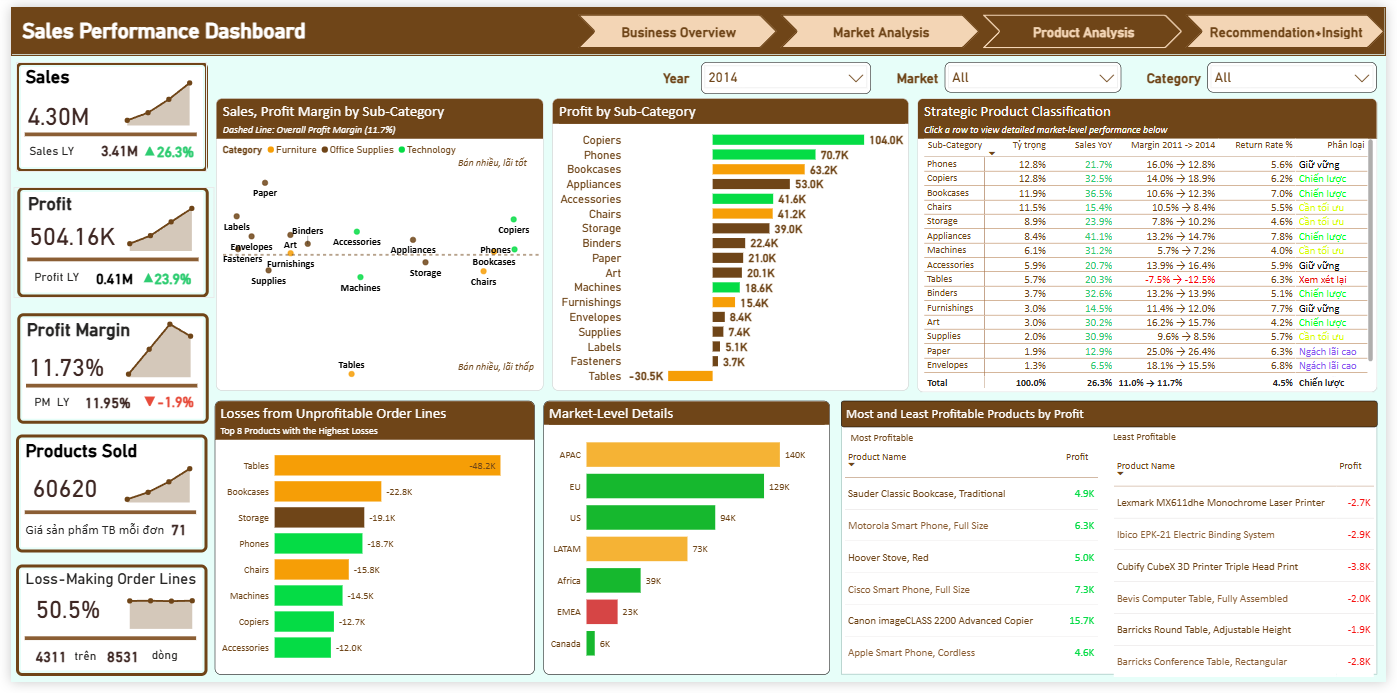

The dashboard page shown, as its layout file describes it:
{"tool":"powerbi","page":{"name":"Product Analysis","canvas":[2200,1080],"ordinal":2},"visuals":[{"type":"shape","box":[0,0,2200,78],"z":0,"group":"g8"},{"type":"shape","box":[7.3,88,307.5,176],"z":0,"group":"g7"},{"type":"group","id":"g1","title":"Group 4","box":[1812,88,374,56],"z":0,"group":"g11"},{"type":"textbox","box":[1412,95.2,96.4,48.8],"z":0,"group":"g3"},{"type":"textbox","box":[1812,95.2,117.1,48.8],"z":0,"group":"g1"},{"type":"textbox","box":[1038,95.6,67.9,37.8],"z":0,"group":"g9"},{"type":"shape","box":[10.9,288.1,306.2,177.1],"z":0,"group":"g6"},{"type":"shape","box":[9.3,489.4,306.2,177.1],"z":0,"group":"g5"},{"type":"clusteredBarChart","title":"Losses from Unprofitable Order Lines","fields":{"Category":["Dim_Product.Sub-Category"],"Y":["_Measure.Total Loss"]},"box":[326,630,512,438],"z":0},{"type":"shape","box":[8,684,306.2,188.6],"z":0,"group":"g4"},{"type":"tableEx","fields":{"Values":["Dim_Product.Product Name","_Measure.Total Profit"]},"box":[1328,690,440,382],"z":0,"group":"g10"},{"type":"shape","box":[8,892,306.2,178],"z":0,"group":"g2"},{"type":"pageNavigator","box":[906,12,1294,54],"z":1000,"group":"g8"},{"type":"slicer","fields":{"Values":["Dim_Date.Year"]},"box":[1103.9,88,271.7,51],"z":1000,"group":"g9"},{"type":"slicer","fields":{"Values":["Dim_Geography.Market"]},"box":[1493.4,88,282.6,48.8],"z":1000,"group":"g3"},{"type":"slicer","fields":{"Values":["Dim_Product.Category"]},"box":[1914.7,88,271.3,48.8],"z":1000,"group":"g1"},{"type":"textbox","box":[24.7,213.1,156.7,33.8],"z":1000,"group":"g7"},{"type":"cardVisual","fields":{"Data":["_Measure.Profit LY"]},"box":[112,408.3,118,50],"z":1000,"group":"g6"},{"type":"textbox","box":[32.6,615.1,90,40],"z":1000,"group":"g5"},{"type":"textbox","box":[18,818,246,48],"z":1000,"group":"g4"},{"type":"group","id":"g2","title":"Card 5","box":[8,892,310,178],"z":1000},{"type":"cardVisual","fields":{"Data":["_Measure.Số đơn lỗ"]},"box":[12,1012,104,52],"z":1000,"group":"g2"},{"type":"textbox","box":[18,18,716,40],"z":2000,"group":"g8"},{"type":"group","id":"g3","title":"Group 3","box":[1412,88,364,56],"z":2000,"group":"g11"},{"type":"cardVisual","fields":{"Data":["_Measure.Growth Arrow"]},"box":[179.3,205.1,80.4,49.7],"z":2000,"group":"g7"},{"type":"cardVisual","fields":{"Data":["_Measure.Profit YoY Growth %"]},"box":[200,403.3,126,60],"z":2000,"group":"g6"},{"type":"cardVisual","fields":{"Data":["_Measure.PM Growth Arrow"]},"box":[180.6,605.1,80,50],"z":2000,"group":"g5"},{"type":"textbox","box":[1328,630,858,42],"z":2000,"group":"g10"},{"type":"group","id":"g4","title":"Card 4","box":[8,684,328,382],"z":2000},{"type":"cardVisual","fields":{"Data":["_Measure.Total Order"]},"box":[120,1010,118,56],"z":2000,"group":"g4"},{"type":"textbox","box":[96,1022,64,40],"z":2000,"group":"g2"},{"type":"cardVisual","fields":{"Data":["_Measure.Revenue LY"]},"box":[120,204,108,48],"z":3000,"group":"g7"},{"type":"cardVisual","fields":{"Data":["_Measure.Profit Growth Arrow"]},"box":[178.4,408.3,81.4,50],"z":3000,"group":"g6"},{"type":"group","id":"g5","title":"Card 3","box":[4,489.4,324.6,177.1],"z":3000},{"type":"cardVisual","fields":{"Data":["_Measure.PM LY"]},"box":[94.6,603.1,134,54],"z":3000,"group":"g5"},{"type":"textbox","box":[1338.6,674,323.3,38],"z":3000,"group":"g10"},{"type":"shape","box":[22.2,799.6,274.2,16.7],"z":3000,"group":"g4"},{"type":"shape","box":[22.2,1001.1,274.2,15.8],"z":3000,"group":"g2"},{"type":"cardVisual","fields":{"Data":["_Measure.Revenue YoY Growth %"]},"box":[203.5,201.2,124.5,57.6],"z":4000,"group":"g7"},{"type":"group","id":"g6","title":"Card 2","box":[4,288.1,322,177.1],"z":4000},{"type":"textbox","box":[32,415.3,104,36],"z":4000,"group":"g6"},{"type":"cardVisual","fields":{"Data":["_Measure.PM YoY Growth %"]},"box":[204.6,601.1,124,58],"z":4000,"group":"g5"},{"type":"textbox","box":[1757,672,323.3,38],"z":4000,"group":"g10"},{"type":"lineChart","fields":{"Category":["Date.Year"],"Y":["_Measure.Total Quantity"]},"box":[176,714.4,120,78.8],"z":4000,"group":"g4"},{"type":"cardVisual","fields":{"Data":["_Measure.Dòng bán hàng lỗ %"]},"box":[14,928,174,68],"z":4000,"group":"g2"},{"type":"group","id":"g7","title":"Card 1","box":[2,88,326,176],"z":5000},{"type":"shape","box":[21.6,195.9,275.4,15.6],"z":5000,"group":"g7"},{"type":"shape","box":[25.1,396.7,274.2,15.7],"z":5000,"group":"g6"},{"type":"shape","box":[23.5,598,274.2,15.7],"z":5000,"group":"g5"},{"type":"textbox","box":[18,688.9,318,53.2],"z":5000,"group":"g4"},{"type":"textbox","box":[18,896,284,50],"z":5000,"group":"g2"},{"type":"textbox","box":[220,1020,98,40],"z":5500,"group":"g2"},{"type":"lineChart","fields":{"Category":["Date.Year"],"Y":["_Measure.Total Revenue"]},"box":[176.3,91.6,119.9,97.9],"z":6000,"group":"g7"},{"type":"lineChart","fields":{"Category":["Date.Year"],"Y":["_Measure.Total Profit"]},"box":[179.1,291.8,119.3,98.6],"z":6000,"group":"g6"},{"type":"lineChart","fields":{"Category":["Date.Year"],"Y":["_Measure.Profit Margin %"]},"box":[177.6,493.1,119.3,98.6],"z":6000,"group":"g5"},{"type":"cardVisual","fields":{"Data":["_Measure.đơn giá tb"]},"box":[232,808,78,54],"z":6000,"group":"g4"},{"type":"lineChart","fields":{"Category":["Date.Year"],"Y":["_Measure.Dòng bán hàng lỗ %"]},"box":[180,922,120,74],"z":6000},{"type":"group","id":"g8","title":"Heding","box":[0,0,2200,78],"z":7000},{"type":"textbox","box":[18,90,146,52],"z":7000,"group":"g7"},{"type":"textbox","box":[22,292.8,106,50],"z":7000,"group":"g6"},{"type":"textbox","box":[19.9,493.1,237.2,50],"z":7000,"group":"g5"},{"type":"cardVisual","fields":{"Data":["_Measure.Total Quantity"]},"box":[9.1,734.2,200,70.3],"z":7000,"group":"g4"},{"type":"cardVisual","fields":{"Data":["_Measure.Total Sales"]},"box":[2,140,172,66],"z":8000,"group":"g7"},{"type":"cardVisual","fields":{"Data":["_Measure.Total Profit"]},"box":[4,327.8,210,74],"z":8000,"group":"g6"},{"type":"cardVisual","fields":{"Data":["_Measure.Profit Margin %"]},"box":[4,541.2,194.3,67.1],"z":8000,"group":"g5"},{"type":"shape","box":[1328,630,858,438],"z":8000},{"type":"clusteredBarChart","title":"Profit by Sub-Category","fields":{"Y":["_Measure.Total Profit"],"Category":["Dim_Product.Sub-Category"]},"box":[866,146,570,468],"z":9000},{"type":"scatterChart","title":"Sales, Profit Margin by Sub-Category","fields":{"X":["_Measure.Total Sales"],"Category":["Dim_Product.Sub-Category"],"Series":["Dim_Product.Category"],"Y":["_Measure.Profit Margin %"]},"box":[328,146,524,468],"z":10000},{"type":"pivotTable","title":"Strategic Product Classification","fields":{"Rows":["Dim_Product.Sub-Category"],"Values":["_Measure.Sales Share %","_Measure.Revenue YoY Growth %","_Measure.Margin Comparison","_Measure.Return Rate %","_Measure.Product Segment"]},"box":[1450,146,736,470],"z":11000},{"type":"group","id":"g9","title":"Group 7","box":[1038,88,338,50],"z":12000,"group":"g11"},{"type":"group","id":"g10","title":"Group 6","box":[1328,630,858,442],"z":12000},{"type":"textbox","box":[710,234,142,50],"z":13000},{"type":"textbox","box":[710,560,148,50],"z":14000},{"type":"clusteredBarChart","title":"Market-Level Details","fields":{"Y":["_Measure.Total Profit"],"Category":["Dim_Geography.Market"]},"box":[852,630,458,438],"z":15000},{"type":"tableEx","fields":{"Values":["Dim_Product.Product Name","_Measure.Total Profit"]},"box":[1758,704,436,376],"z":16000},{"type":"group","id":"g11","title":"Group 1","box":[1038,88,1148,56],"z":17000}]}

Visuals, with their boxes in screenshot pixels (x1, y1, x2, y2), scaled from the page's 2200x1080 canvas onto the 1397x693 screenshot:
shape: box(0, 0, 1396, 50)
shape: box(5, 56, 200, 169)
"Group 4" group: box(1151, 56, 1388, 92)
textbox: box(897, 61, 958, 92)
textbox: box(1151, 61, 1225, 92)
textbox: box(659, 61, 702, 86)
shape: box(7, 185, 201, 299)
shape: box(6, 314, 200, 428)
"Losses from Unprofitable Order Lines" clusteredBarChart: box(207, 404, 532, 685)
shape: box(5, 439, 200, 560)
tableEx - Dim_Product.Product Name x _Measure.Total Profit: box(843, 443, 1123, 688)
shape: box(5, 572, 200, 687)
pageNavigator: box(575, 8, 1396, 42)
slicer - Dim_Date.Year: box(701, 56, 874, 89)
slicer - Dim_Geography.Market: box(948, 56, 1128, 88)
slicer - Dim_Product.Category: box(1216, 56, 1388, 88)
textbox: box(16, 137, 115, 158)
cardVisual - _Measure.Profit LY: box(71, 262, 146, 294)
textbox: box(21, 395, 78, 420)
textbox: box(11, 525, 168, 556)
"Card 5" group: box(5, 572, 202, 687)
cardVisual - _Measure.Số đơn lỗ: box(8, 649, 74, 683)
textbox: box(11, 12, 466, 37)
"Group 3" group: box(897, 56, 1128, 92)
cardVisual - _Measure.Growth Arrow: box(114, 132, 165, 163)
cardVisual - _Measure.Profit YoY Growth %: box(127, 259, 207, 297)
cardVisual - _Measure.PM Growth Arrow: box(115, 388, 165, 420)
textbox: box(843, 404, 1388, 431)
"Card 4" group: box(5, 439, 213, 684)
cardVisual - _Measure.Total Order: box(76, 648, 151, 684)
textbox: box(61, 656, 102, 681)
cardVisual - _Measure.Revenue LY: box(76, 131, 145, 162)
cardVisual - _Measure.Profit Growth Arrow: box(113, 262, 165, 294)
"Card 3" group: box(3, 314, 209, 428)
cardVisual - _Measure.PM LY: box(60, 387, 145, 422)
textbox: box(850, 432, 1055, 457)
shape: box(14, 513, 188, 524)
shape: box(14, 642, 188, 653)
cardVisual - _Measure.Revenue YoY Growth %: box(129, 129, 208, 166)
"Card 2" group: box(3, 185, 207, 299)
textbox: box(20, 266, 86, 290)
cardVisual - _Measure.PM YoY Growth %: box(130, 386, 209, 423)
textbox: box(1116, 431, 1321, 456)
lineChart - Date.Year x _Measure.Total Quantity: box(112, 458, 188, 509)
cardVisual - _Measure.Dòng bán hàng lỗ %: box(9, 595, 119, 639)
"Card 1" group: box(1, 56, 208, 169)
shape: box(14, 126, 189, 136)
shape: box(16, 255, 190, 265)
shape: box(15, 384, 189, 394)
textbox: box(11, 442, 213, 476)
textbox: box(11, 575, 192, 607)
textbox: box(140, 654, 202, 680)
lineChart - Date.Year x _Measure.Total Revenue: box(112, 59, 188, 122)
lineChart - Date.Year x _Measure.Total Profit: box(114, 187, 189, 251)
lineChart - Date.Year x _Measure.Profit Margin %: box(113, 316, 189, 380)
cardVisual - _Measure.đơn giá tb: box(147, 518, 197, 553)
lineChart - Date.Year x _Measure.Dòng bán hàng lỗ %: box(114, 592, 190, 639)
"Heding" group: box(0, 0, 1396, 50)
textbox: box(11, 58, 104, 91)
textbox: box(14, 188, 81, 220)
textbox: box(13, 316, 163, 348)
cardVisual - _Measure.Total Quantity: box(6, 471, 133, 516)
cardVisual - _Measure.Total Sales: box(1, 90, 110, 132)
cardVisual - _Measure.Total Profit: box(3, 210, 136, 258)
cardVisual - _Measure.Profit Margin %: box(3, 347, 126, 390)
shape: box(843, 404, 1388, 685)
"Profit by Sub-Category" clusteredBarChart: box(550, 94, 912, 394)
"Sales, Profit Margin by Sub-Category" scatterChart: box(208, 94, 541, 394)
"Strategic Product Classification" pivotTable: box(921, 94, 1388, 395)
"Group 7" group: box(659, 56, 874, 89)
"Group 6" group: box(843, 404, 1388, 688)
textbox: box(451, 150, 541, 182)
textbox: box(451, 359, 545, 391)
"Market-Level Details" clusteredBarChart: box(541, 404, 832, 685)
tableEx - Dim_Product.Product Name x _Measure.Total Profit: box(1116, 452, 1393, 692)
"Group 1" group: box(659, 56, 1388, 92)
